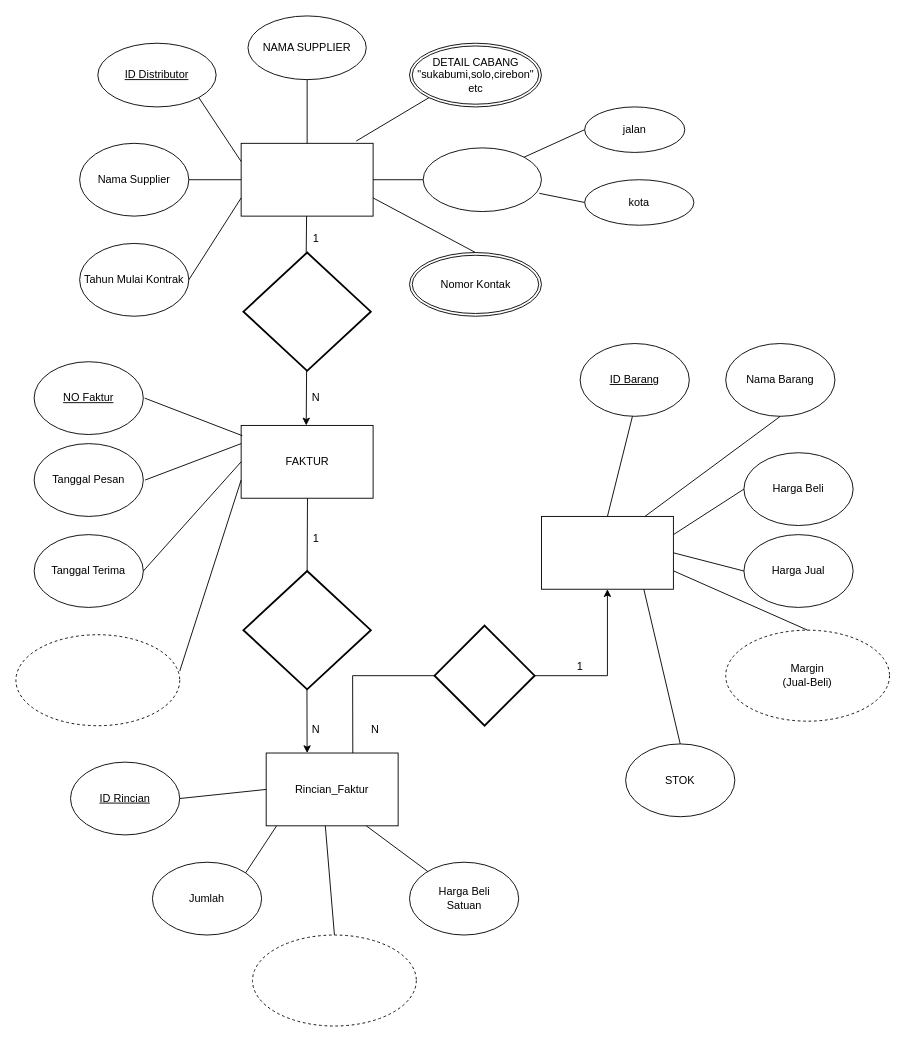
The diagram is 905 pixels wide and 1042 high, and some of its shapes have lost their labels. Each missing label, with the centre of its shape:
Alamat Gudang: (x=481, y=179)
Barang: (x=607, y=552)
Distributor: (x=306, y=179)
Lama proses (Terima-Pesan): (x=97, y=680)
MEMILIKI: (x=306, y=630)
MENGIRIM: (x=306, y=311)
Subtotal (Jumlah X Harga_Beli_Satuan): (x=334, y=980)
UNTUK: (x=484, y=675)
